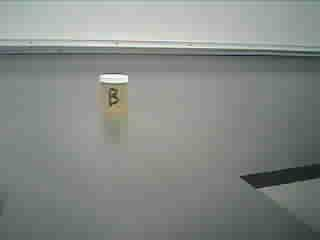Bottle B: (92, 71, 137, 124)
